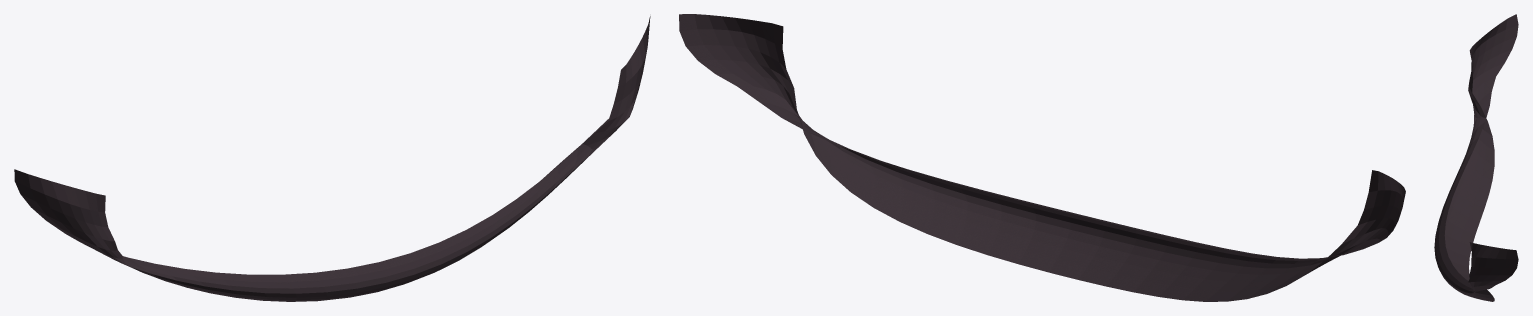
The model's file is facial_jawline_default.gltf.
3 renders of one model, left to right at view 1: azimuth 30°, elevation 25°; view 2: azimuth 150°, elevation 25°; view 3: azimuth 270°, elevation 25°, orthographic. The views are drawn at different scales.
Visible parts, largest first — view 1: Jawline Beard default; view 2: Jawline Beard default; view 3: Jawline Beard default.
Part boxes in pixels (x1=…): Jawline Beard default: x1=14, y1=16, x2=650, y2=301; Jawline Beard default: x1=679, y1=14, x2=1405, y2=301; Jawline Beard default: x1=1434, y1=14, x2=1518, y2=301.
Size of the model in its own units: 0.348 by 0.093 by 0.0524.
1 material, 1 textured.
